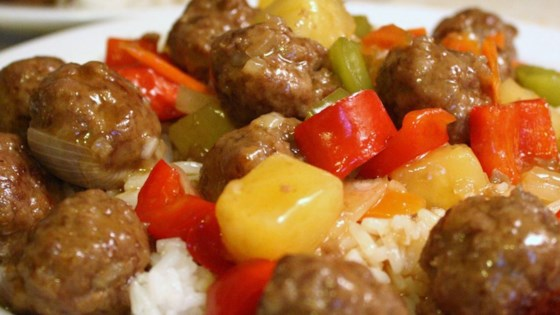meatballs: (434, 190, 560, 315), (29, 66, 149, 174), (212, 22, 339, 115), (30, 190, 124, 315), (381, 36, 494, 132), (277, 239, 393, 315), (203, 122, 319, 186)
plain rice: (362, 210, 430, 300), (137, 230, 205, 315)
